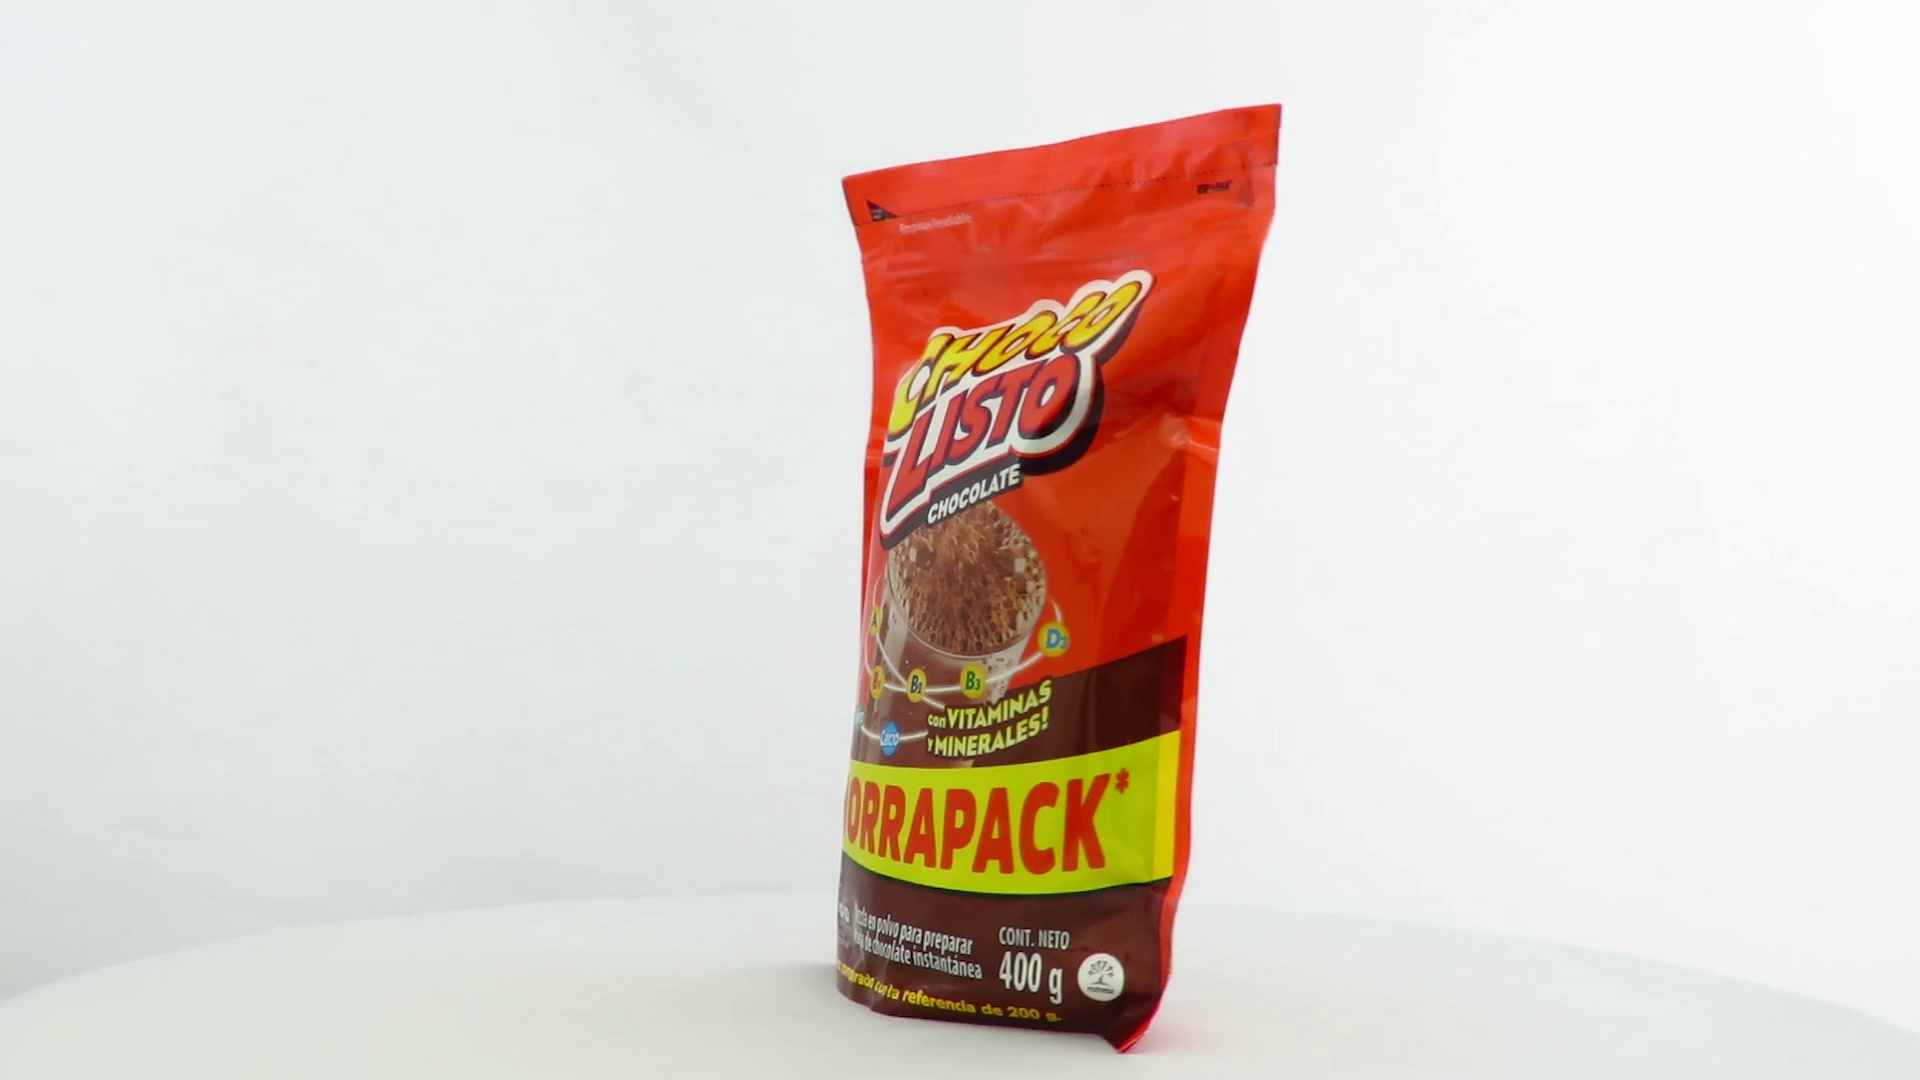COL0170103DYP40000: (779, 98, 1288, 1060)
